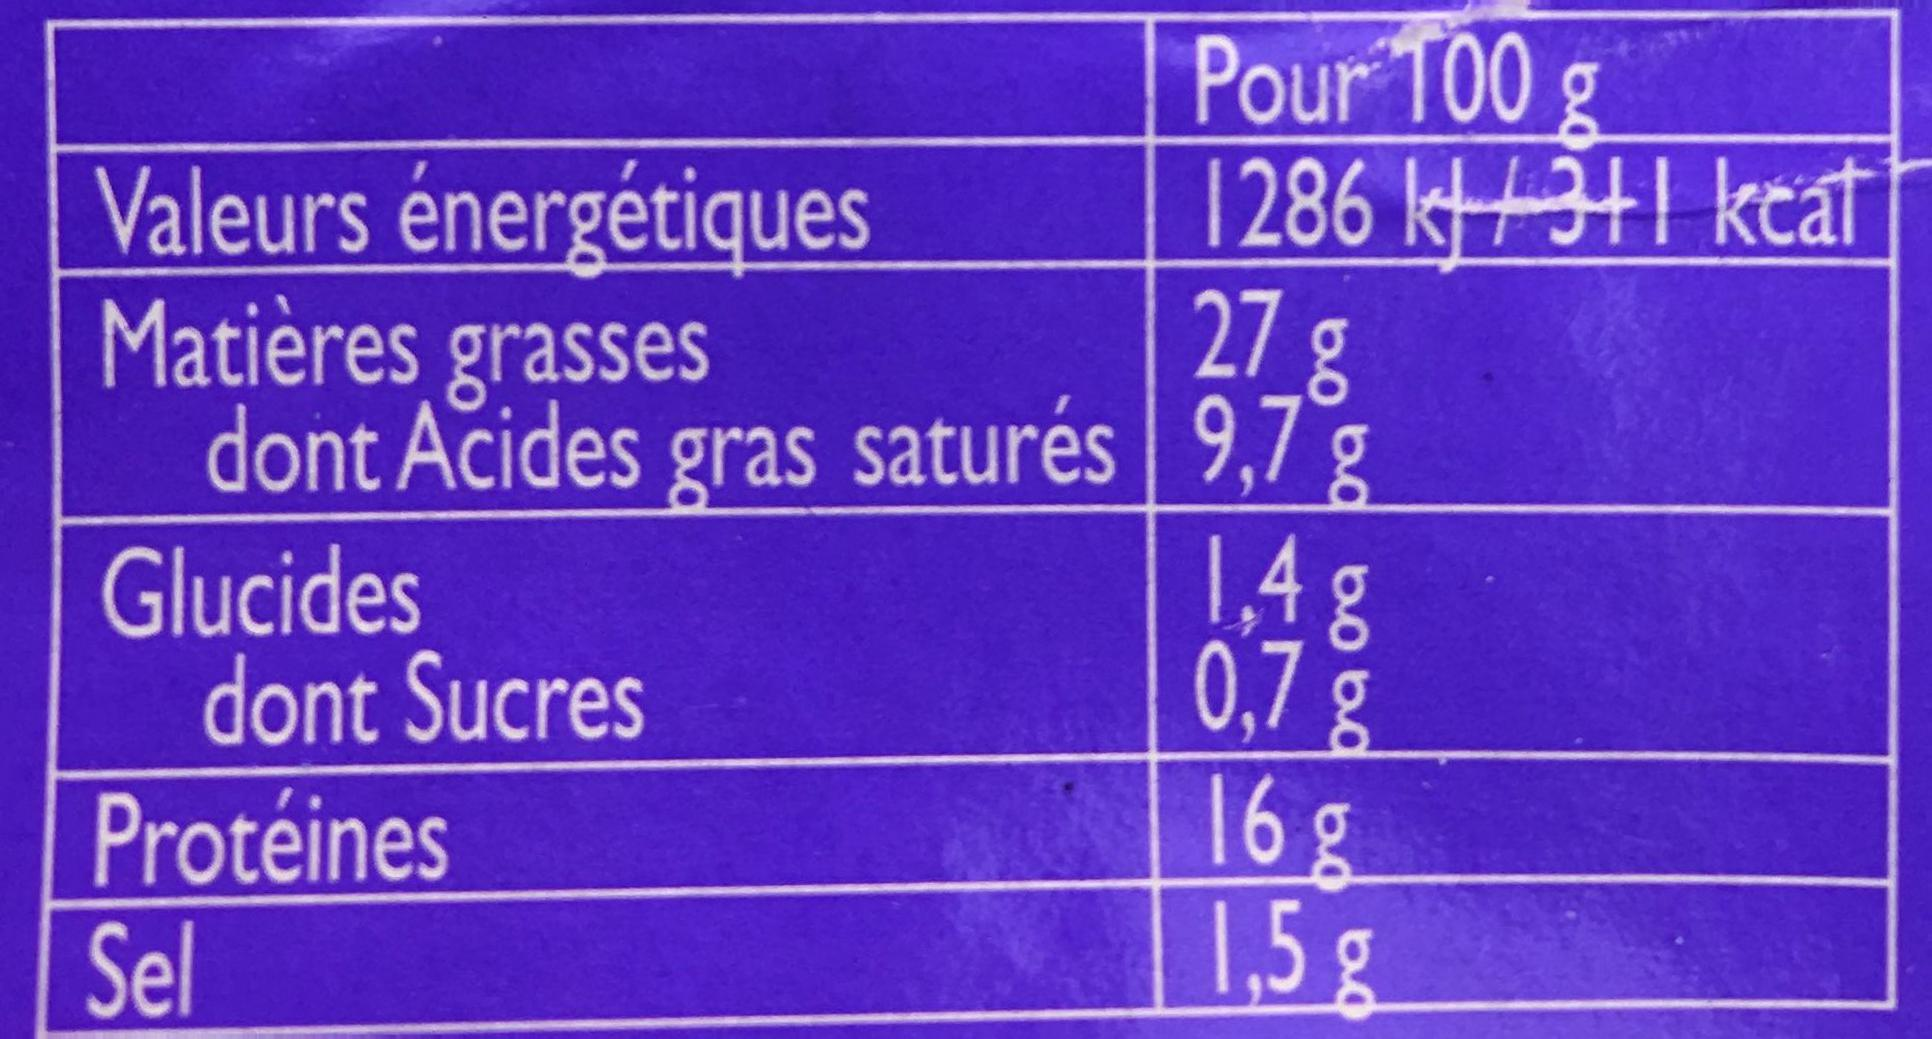column: (90, 163, 1118, 1019), (1195, 31, 1857, 1007)
line: (101, 288, 1848, 401), (104, 536, 1842, 647), (86, 35, 1857, 132), (92, 908, 1837, 1003), (104, 408, 1844, 502), (96, 784, 1836, 869), (96, 168, 1857, 251), (107, 660, 1839, 740)
table: (38, 10, 1915, 1035)
